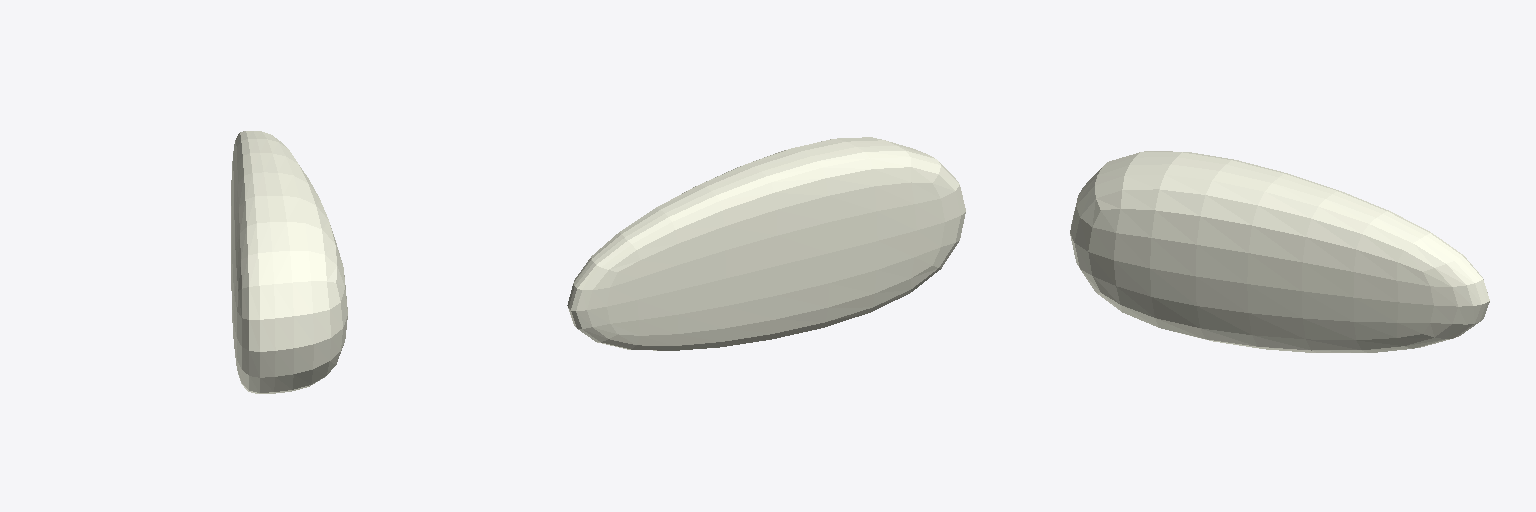
Rendered from brazoizq.obj.
3 renders of one model, left to right at view 1: azimuth 30°, elevation 25°; view 2: azimuth 150°, elevation 25°; view 3: azimuth 270°, elevation 25°, orthographic.
Visible parts, largest first — view 1: L_braco; view 2: L_braco; view 3: L_braco.
Boxes of the visible parts, <box> form: L_braco: <box>231,131,347,393</box>; L_braco: <box>567,137,965,350</box>; L_braco: <box>1070,151,1489,352</box>.
Bounding box in the file's own units: 0.5445 × 0.4205 × 0.9553.